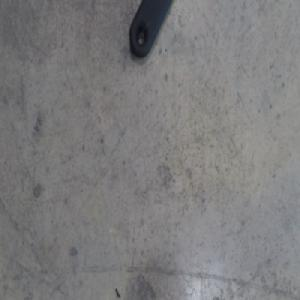AdjustableWrench: (129, 0, 168, 57)
